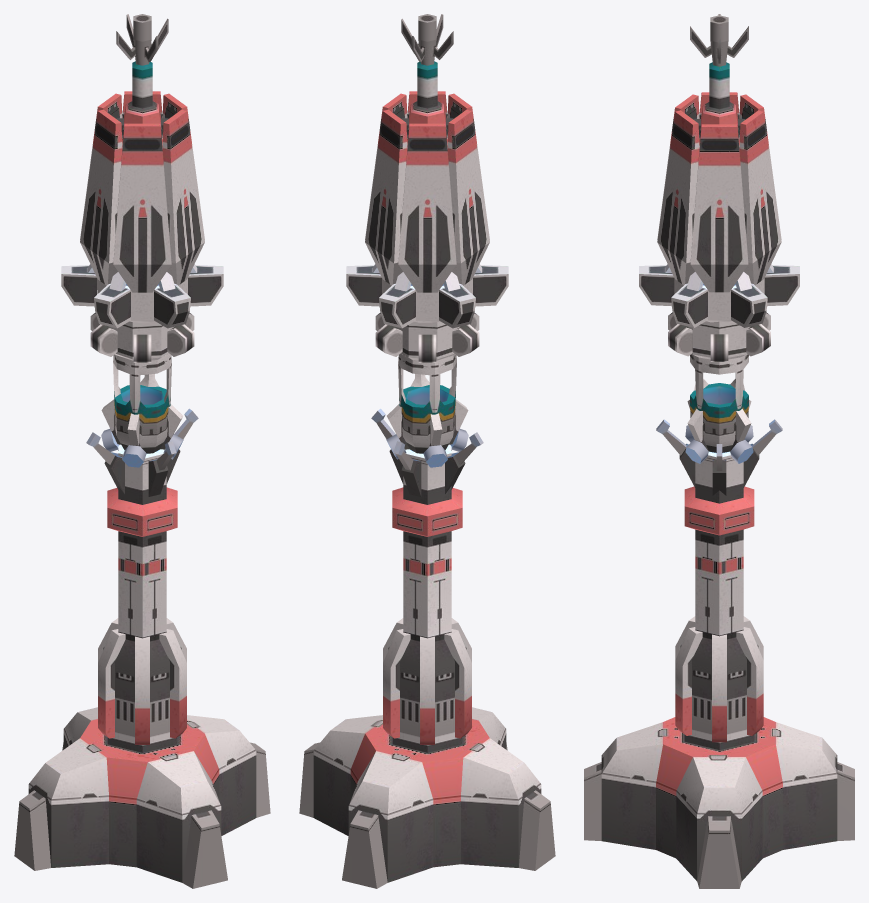
The picture shows the model from 3 angles, left to right: view 1: azimuth 30°, elevation 25°; view 2: azimuth 150°, elevation 25°; view 3: azimuth 270°, elevation 25°; orthographic projection.
Parts seen in each view (by area): view 1: charging-pole; view 2: charging-pole; view 3: charging-pole.
Boxes of the visible parts, x1,y1,x2,y2 form: charging-pole: (14,14,270,888); charging-pole: (299,14,555,888); charging-pole: (584,14,854,888).
Bounding box in the file's own units: 2.3 × 7.61 × 2.3.
1 material, 1 textured.
